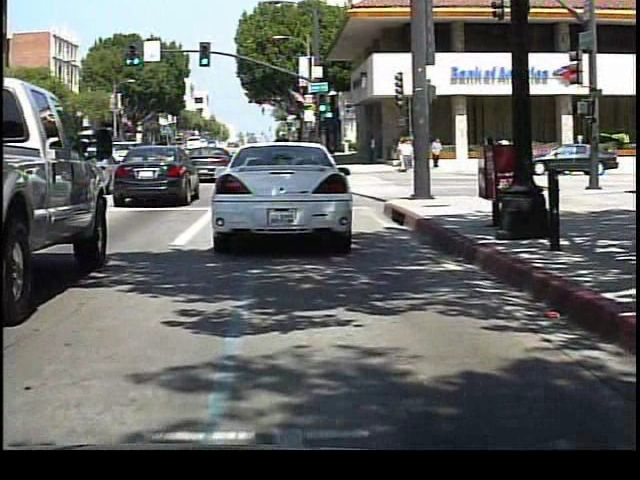person: (492, 134, 513, 174), (399, 136, 414, 177), (430, 135, 446, 171)
